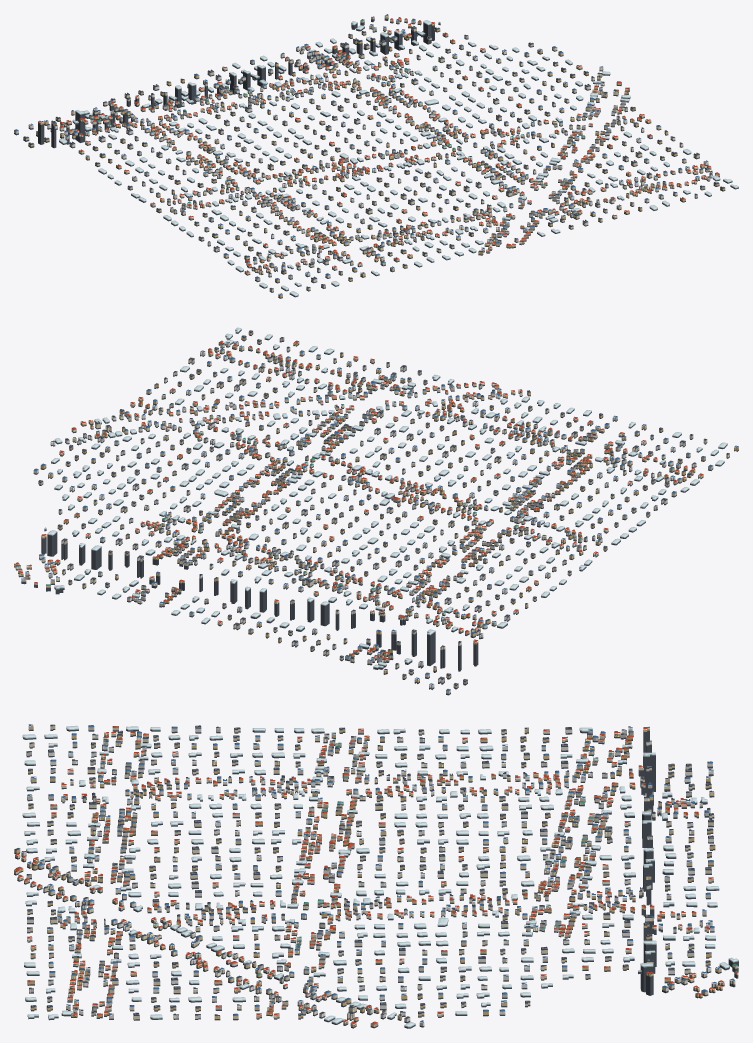
The model's file is osm_buildings_T_E01_S02.glb.
The picture shows the model from 3 angles, top to bottom: view 1: azimuth 30°, elevation 25°; view 2: azimuth 150°, elevation 25°; view 3: azimuth 270°, elevation 25°; orthographic projection. The views are drawn at different scales.
Parts seen in each view (by area): view 1: OSM_T_E01_S02_foundation, OSM_T_E01_S02_greenhouse_blend, OSM_T_E01_S02_wall_cream_stucco, OSM_T_E01_S02_wall_french_ochre, OSM_T_E01_S02_roof_terracotta, OSM_T_E01_S02_roof_mansard_slate, OSM_T_E01_S02_wall_warm_white, OSM_T_E01_S02_roof_alpine_blue, OSM_T_E01_S02_wall_pastel_sand, OSM_T_E01_S02_roof_mansard_deck, OSM_T_E01_S02_balcony_railing; view 2: OSM_T_E01_S02_foundation, OSM_T_E01_S02_greenhouse_blend, OSM_T_E01_S02_wall_cream_stucco, OSM_T_E01_S02_wall_french_ochre, OSM_T_E01_S02_roof_terracotta, OSM_T_E01_S02_roof_mansard_slate, OSM_T_E01_S02_wall_warm_white, OSM_T_E01_S02_roof_alpine_blue, OSM_T_E01_S02_wall_pastel_sand, OSM_T_E01_S02_roof_mansard_deck, OSM_T_E01_S02_balcony_railing; view 3: OSM_T_E01_S02_foundation, OSM_T_E01_S02_greenhouse_blend, OSM_T_E01_S02_wall_cream_stucco, OSM_T_E01_S02_wall_french_ochre, OSM_T_E01_S02_roof_mansard_slate, OSM_T_E01_S02_roof_terracotta, OSM_T_E01_S02_wall_warm_white, OSM_T_E01_S02_roof_alpine_blue, OSM_T_E01_S02_wall_pastel_sand, OSM_T_E01_S02_roof_mansard_deck, OSM_T_E01_S02_balcony_railing.
Part boxes in pixels (x1,y1,x2,y2): OSM_T_E01_S02_foundation: (14,17,738,298); OSM_T_E01_S02_greenhouse_blend: (59,20,738,296); OSM_T_E01_S02_wall_cream_stucco: (23,15,709,291); OSM_T_E01_S02_wall_french_ochre: (28,19,725,297); OSM_T_E01_S02_roof_terracotta: (38,16,719,272); OSM_T_E01_S02_roof_mansard_slate: (23,26,724,289); OSM_T_E01_S02_wall_warm_white: (14,28,712,282); OSM_T_E01_S02_roof_alpine_blue: (14,14,709,294); OSM_T_E01_S02_wall_pastel_sand: (60,17,710,287); OSM_T_E01_S02_roof_mansard_deck: (24,26,724,278); OSM_T_E01_S02_balcony_railing: (36,26,721,280); OSM_T_E01_S02_foundation: (14,329,738,695); OSM_T_E01_S02_greenhouse_blend: (44,327,727,667); OSM_T_E01_S02_wall_cream_stucco: (15,340,729,687); OSM_T_E01_S02_wall_french_ochre: (14,331,738,683); OSM_T_E01_S02_roof_terracotta: (14,340,703,659); OSM_T_E01_S02_roof_mansard_slate: (38,331,729,685); OSM_T_E01_S02_wall_warm_white: (33,343,696,693); OSM_T_E01_S02_roof_alpine_blue: (16,341,738,690); OSM_T_E01_S02_wall_pastel_sand: (25,338,713,667); OSM_T_E01_S02_roof_mansard_deck: (39,330,690,684); OSM_T_E01_S02_balcony_railing: (15,333,703,686); OSM_T_E01_S02_foundation: (14,728,738,1028); OSM_T_E01_S02_greenhouse_blend: (22,725,738,1027); OSM_T_E01_S02_wall_cream_stucco: (14,725,738,1026); OSM_T_E01_S02_wall_french_ochre: (14,725,724,1027); OSM_T_E01_S02_roof_mansard_slate: (14,724,715,1018); OSM_T_E01_S02_roof_terracotta: (14,726,737,1024); OSM_T_E01_S02_wall_warm_white: (21,727,714,1026); OSM_T_E01_S02_roof_alpine_blue: (27,724,734,1022); OSM_T_E01_S02_wall_pastel_sand: (26,727,738,1013); OSM_T_E01_S02_roof_mansard_deck: (27,725,713,1014); OSM_T_E01_S02_balcony_railing: (16,728,723,1025).
Bounding box in the file's own units: 1943 × 148 × 1973.
